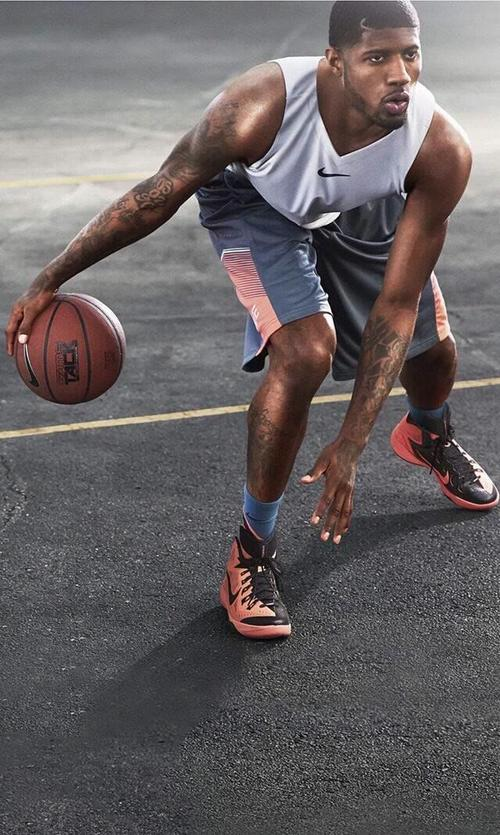ball: (11, 292, 127, 405)
